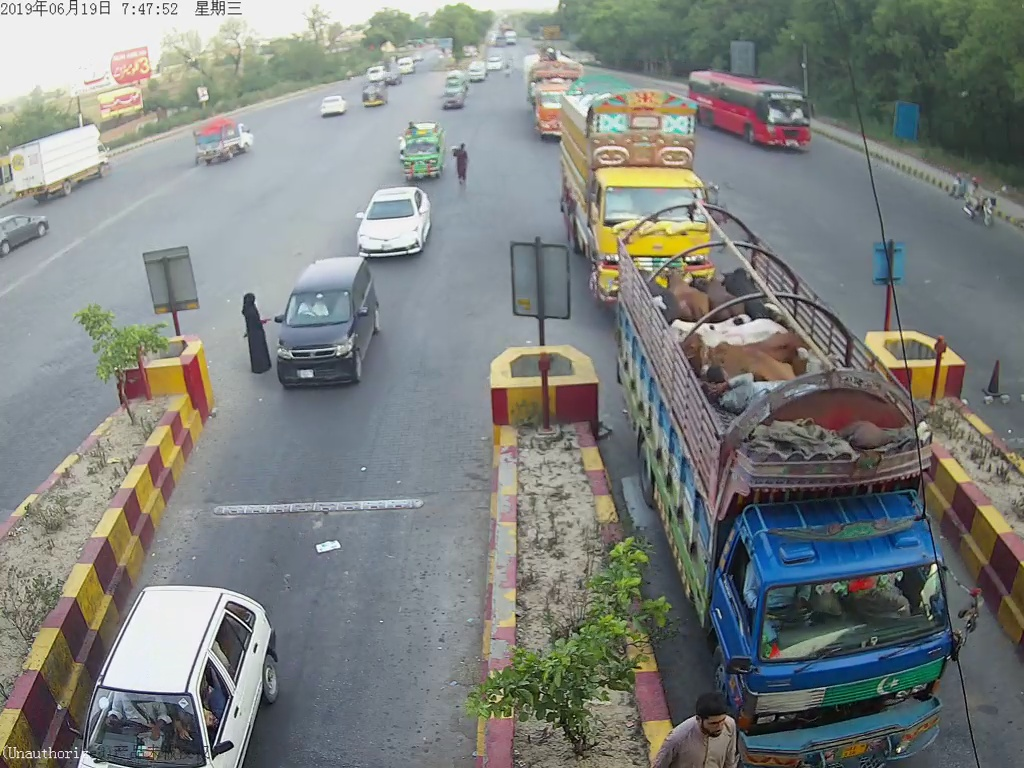Cat-1: (272, 254, 386, 391), (354, 177, 432, 263), (391, 123, 453, 182)
Cat-2: (618, 233, 970, 768)
Cat-3: (691, 66, 815, 153)
Cat-4: (558, 80, 710, 299)
Cat-5: (516, 48, 575, 146)
